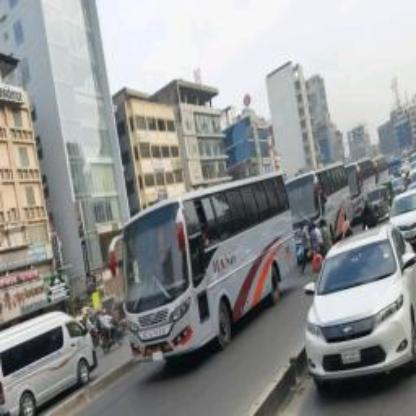bus: (115, 171, 292, 357), (283, 160, 349, 252), (345, 147, 377, 233)
